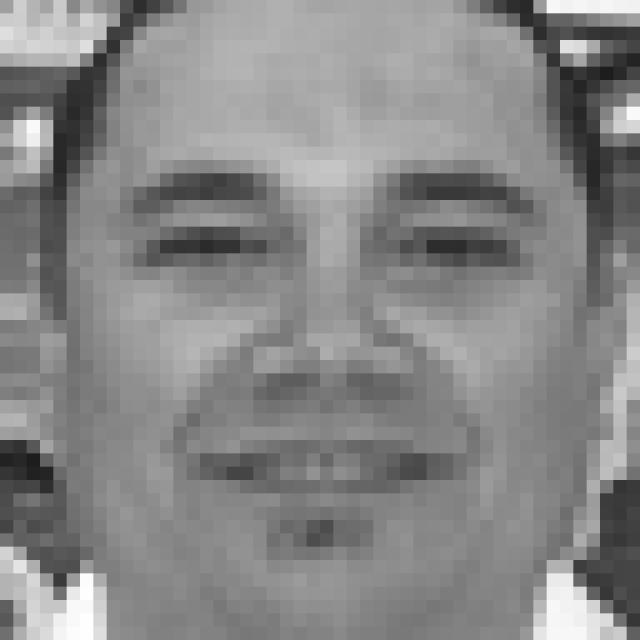neutral: (116, 151, 553, 511)
